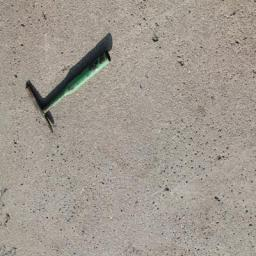FOD: (25, 47, 114, 136)
